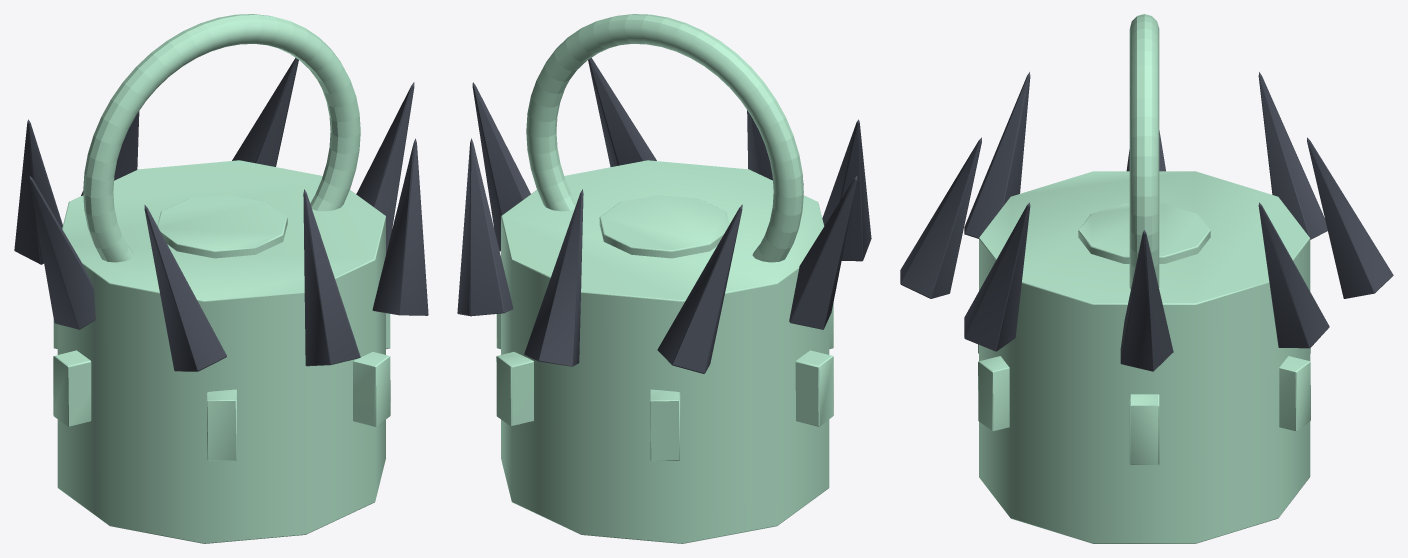
Rendered from SM_Boss_Bergbahn_LOD1.fbx.
3 views of the same model, side by side, from view 1: azimuth 30°, elevation 25°; view 2: azimuth 150°, elevation 25°; view 3: azimuth 270°, elevation 25° (orthographic).
Visible parts, largest first — view 1: SM_Boss_Bergbahn_LOD1; view 2: SM_Boss_Bergbahn_LOD1; view 3: SM_Boss_Bergbahn_LOD1.
Boxes of the visible parts, bbox=[...] form: SM_Boss_Bergbahn_LOD1: bbox=[14, 14, 428, 543]; SM_Boss_Bergbahn_LOD1: bbox=[457, 14, 871, 543]; SM_Boss_Bergbahn_LOD1: bbox=[900, 14, 1393, 543].
Size of the model in its own units: 3.27 by 3.76 by 3.68.
